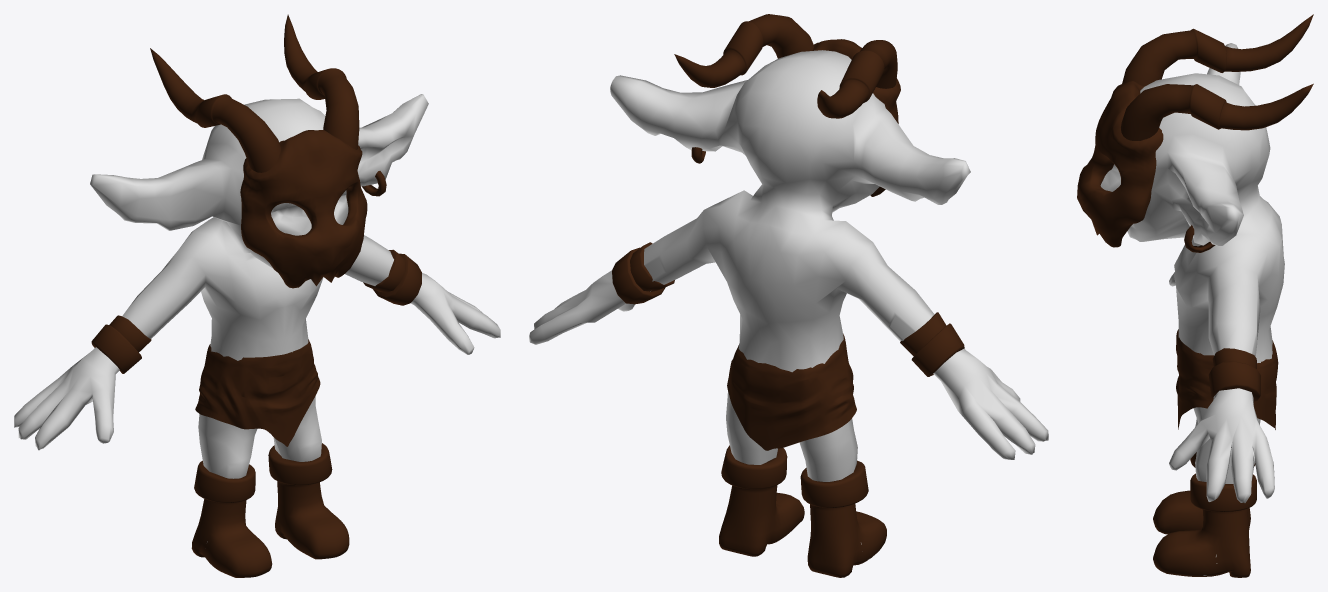
File: Enemy1_low.fbx
3 views of the same model, side by side, from view 1: azimuth 30°, elevation 25°; view 2: azimuth 150°, elevation 25°; view 3: azimuth 270°, elevation 25° (orthographic). The views are drawn at different scales.
Parts seen in each view (by area): view 1: Enemy1_low; view 2: Enemy1_low; view 3: Enemy1_low.
Part boxes in pixels (left/top/right/bottom): Enemy1_low: left=14, top=14, right=500, bottom=577; Enemy1_low: left=529, top=14, right=1048, bottom=577; Enemy1_low: left=1077, top=14, right=1313, bottom=577.
Bounding box in the file's own units: 198 × 196 × 84.14.
